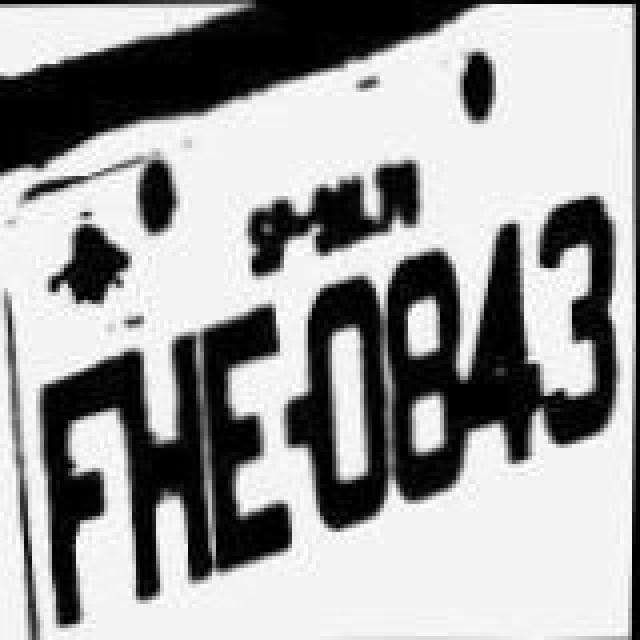3: (534, 194, 626, 446)
4: (462, 220, 546, 472)
8: (384, 252, 472, 500)
E: (198, 304, 306, 568)
F: (34, 356, 126, 628)
H: (112, 334, 216, 598)
O: (302, 272, 398, 532)
